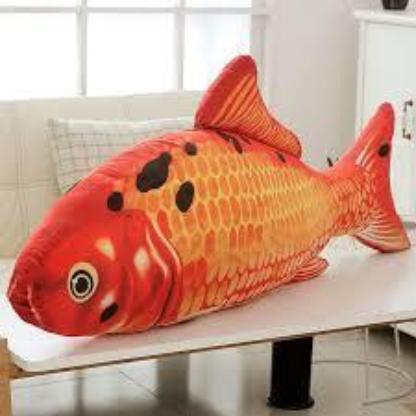ikan-mas: (8, 88, 400, 334)
